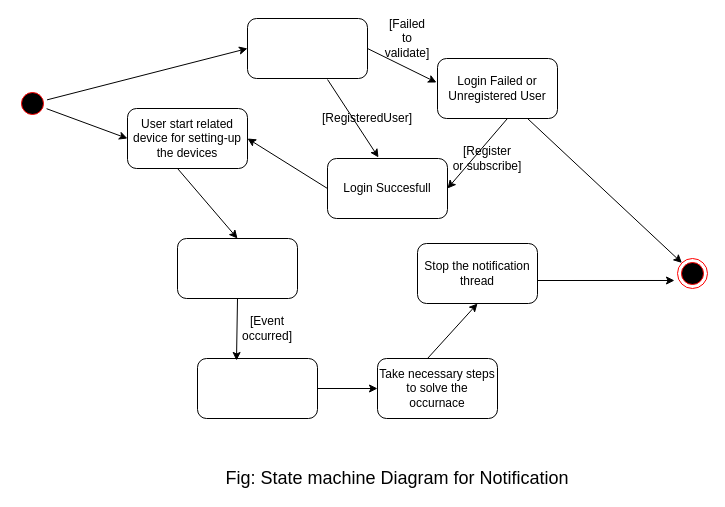
Some shapes in this 725 by 507 pixel diagram are drawn without their labels. The shapes that lost their labels are listed below. From the top down, each one's box as (x1, y1, x2, y2) in pixels, then its label:
(246, 18, 368, 78): Login For Register user
(176, 238, 298, 298): Will receive notification upon the device settings
(196, 358, 318, 418): Send notification
